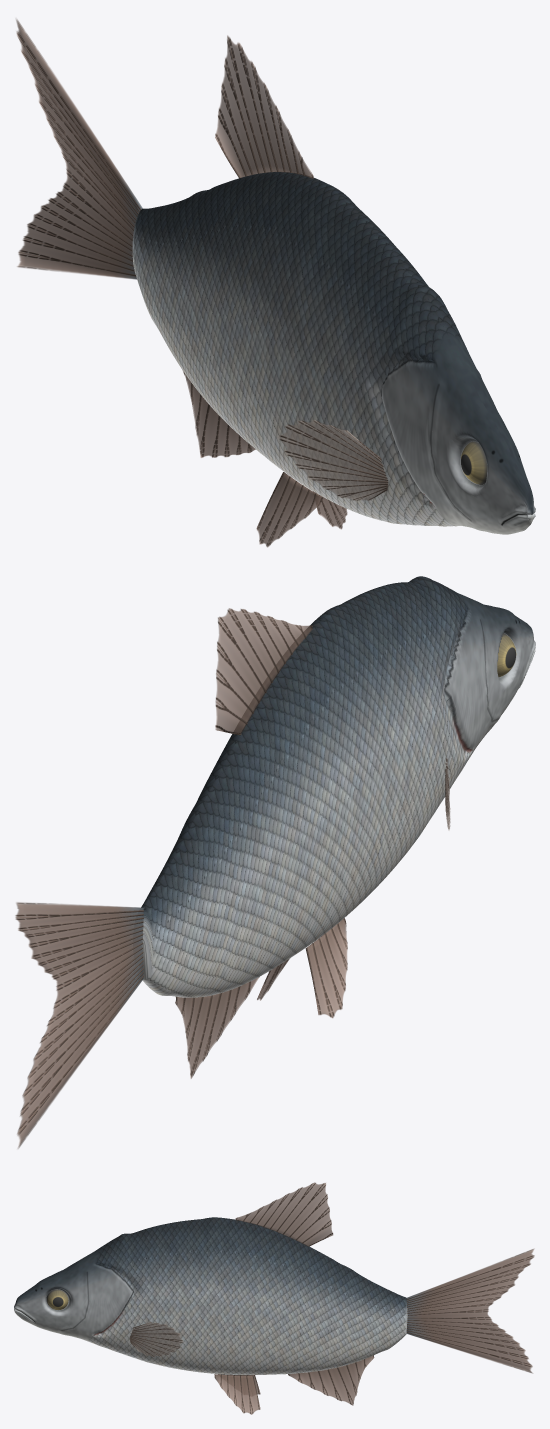
Rendered from rozpior.glb.
3 views of the same model, one above another, from view 1: azimuth 30°, elevation 25°; view 2: azimuth 150°, elevation 25°; view 3: azimuth 270°, elevation 25° (orthographic). The views are drawn at different scales.
Parts seen in each view (by area): view 1: Body, FinCaudal, FinDorsal1, FinPectoral, FinPelvic, FinAnal, CorneaLeft, EyeLeft; view 2: Body, FinCaudal, FinDorsal1, FinPelvic, FinAnal; view 3: Body, FinCaudal, FinDorsal1, FinAnal, FinPectoral, FinPelvic, EyeRight, CorneaRight.
Part boxes in pixels (left/top/right/bottom): Body: left=132, top=172, right=535, bottom=534; FinCaudal: left=16, top=19, right=142, bottom=279; FinDorsal1: left=215, top=35, right=313, bottom=178; FinPectoral: left=278, top=420, right=388, bottom=500; FinPelvic: left=256, top=472, right=347, bottom=547; FinAnal: left=182, top=370, right=255, bottom=457; CorneaLeft: left=460, top=441, right=486, bottom=484; EyeLeft: left=461, top=441, right=487, bottom=484; Body: left=141, top=576, right=535, bottom=997; FinCaudal: left=15, top=902, right=143, bottom=1148; FinDorsal1: left=215, top=608, right=312, bottom=735; FinPelvic: left=257, top=918, right=347, bottom=1018; FinAnal: left=175, top=977, right=259, bottom=1078; Body: left=14, top=1217, right=407, bottom=1374; FinCaudal: left=406, top=1248, right=534, bottom=1373; FinDorsal1: left=235, top=1182, right=333, bottom=1246; FinAnal: left=288, top=1355, right=374, bottom=1405; FinPectoral: left=129, top=1322, right=183, bottom=1357; FinPelvic: left=214, top=1374, right=260, bottom=1414; EyeRight: left=46, top=1289, right=68, bottom=1309; CorneaRight: left=46, top=1289, right=68, bottom=1309.
Size of the model in its own units: 0.1928 by 0.4758 by 0.9995.
8 materials, 7 textured.
